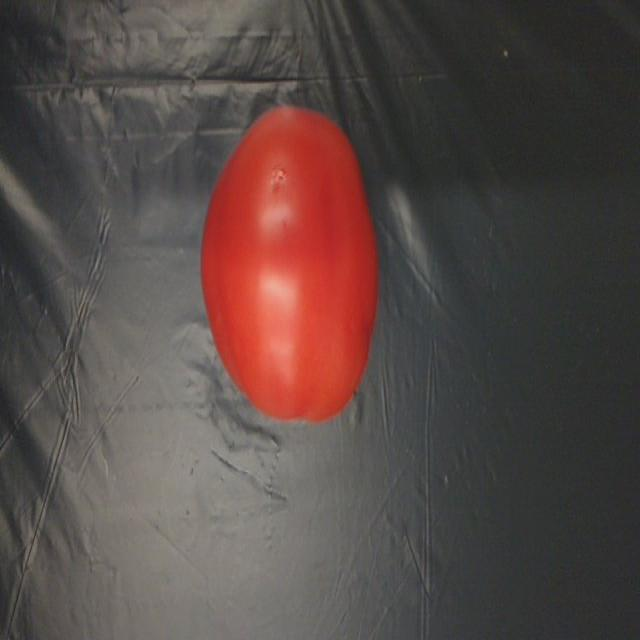kirmizi: (198, 80, 393, 432)
